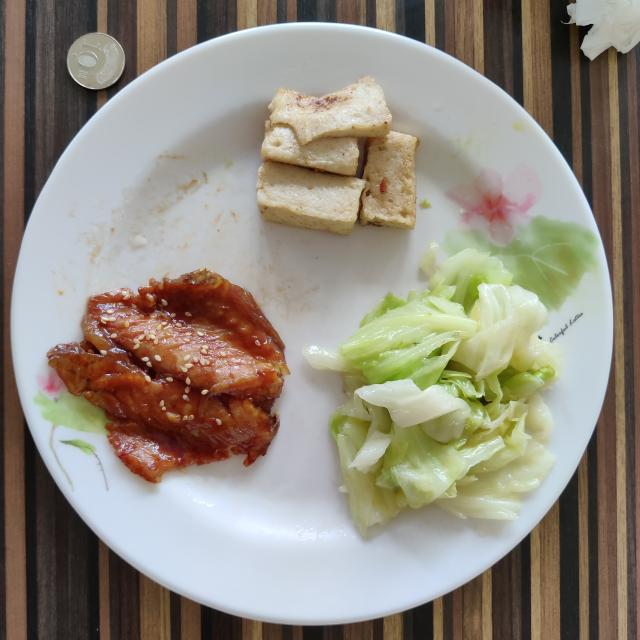Kabayaki sea bream fillet: (48, 268, 289, 482)
cabbage: (304, 249, 564, 536)
coin: (68, 32, 125, 90)
creamy tofu -without sauce-: (258, 76, 416, 235)
